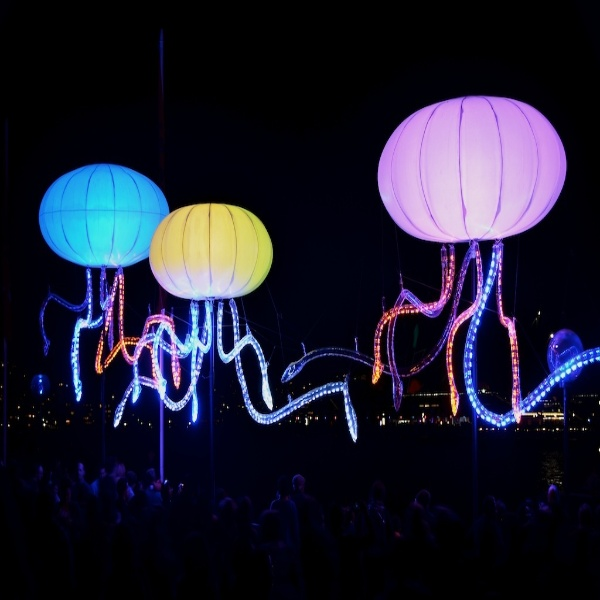Jellyfish: (376, 81, 580, 440), (112, 202, 357, 436), (39, 161, 182, 402)
